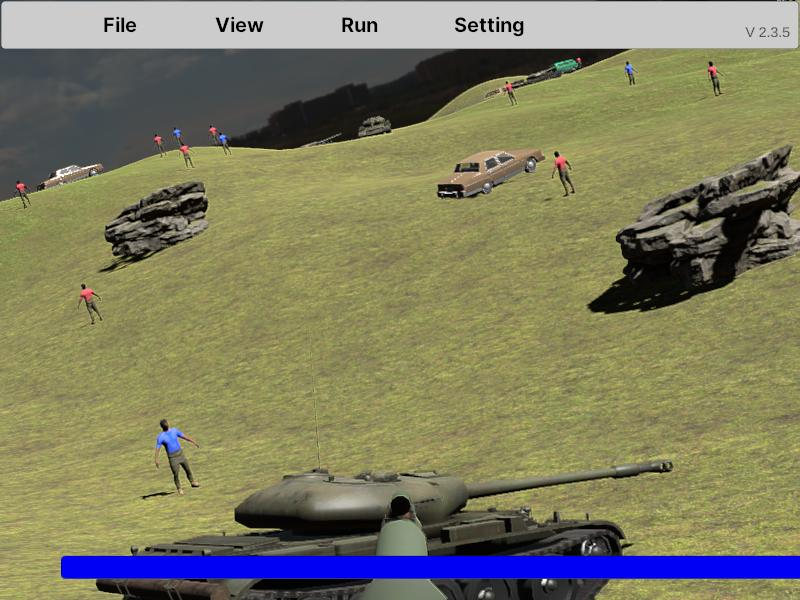Human: (154, 418, 201, 496), (551, 150, 575, 198), (78, 283, 103, 326)
Tank: (94, 462, 670, 600)
car: (436, 150, 544, 201)
